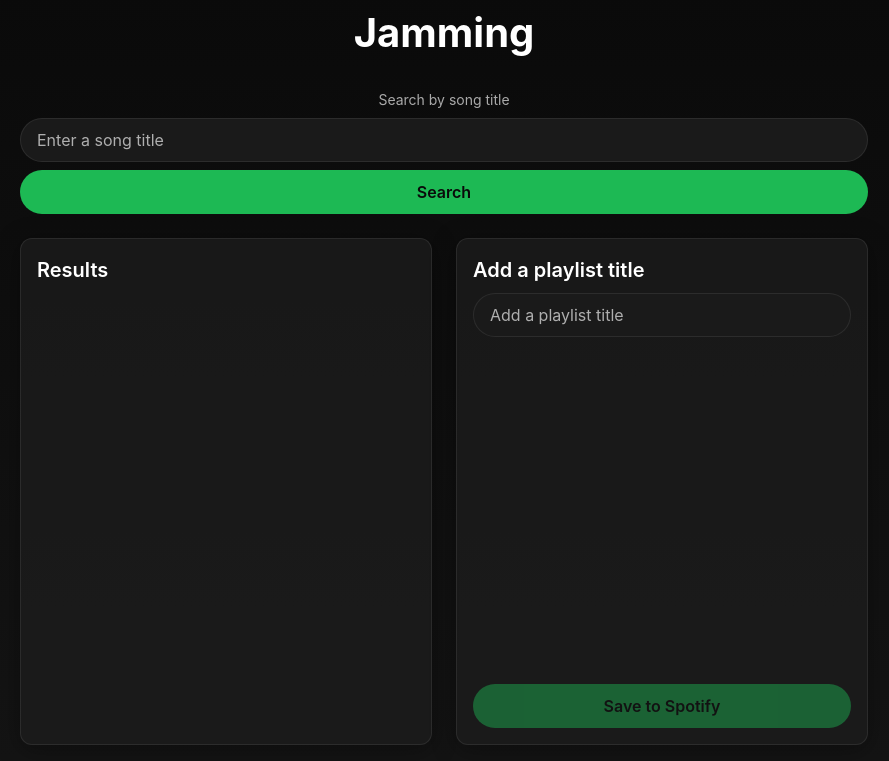
Scenario: shows search error when Spotify search fails
Type "test" into the field with test id "search-by-input". click: (444, 140)
box: [20,118,868,162]
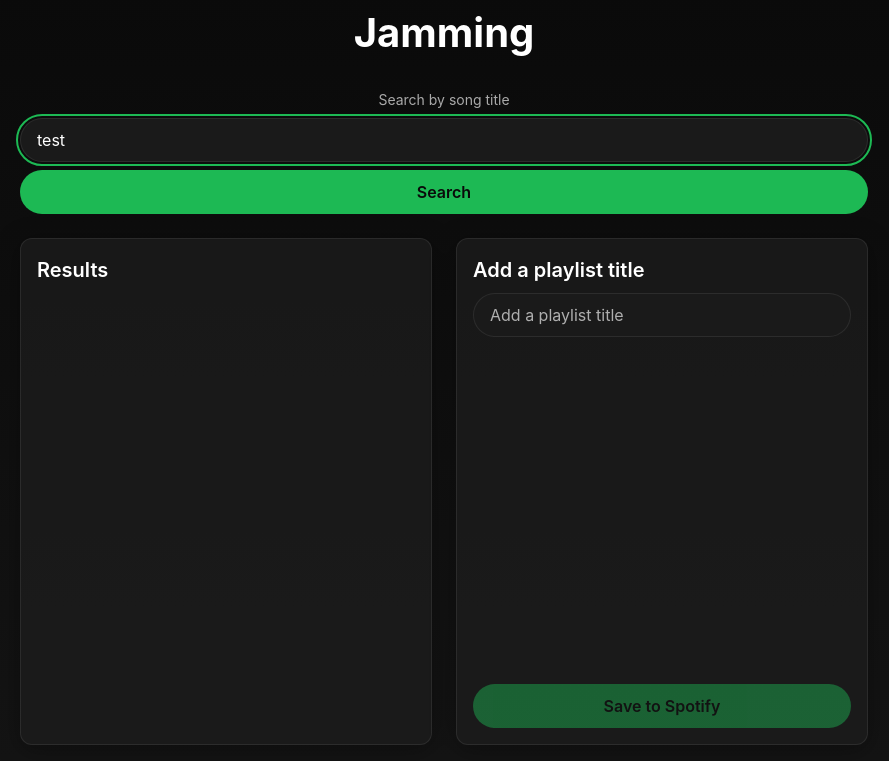
Click the button with test id "search-button". click: (444, 192)
box: [20,170,868,214]
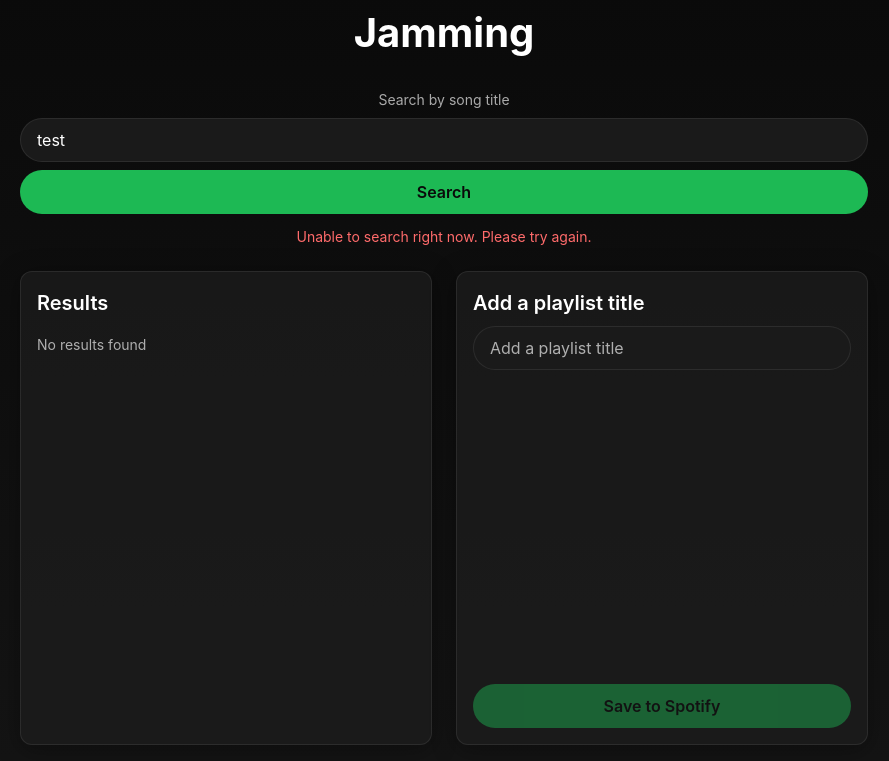
Expected: the message with test id "search-api-error" reads "Unable to search right now. Please try again.", [296,228,592,245]
